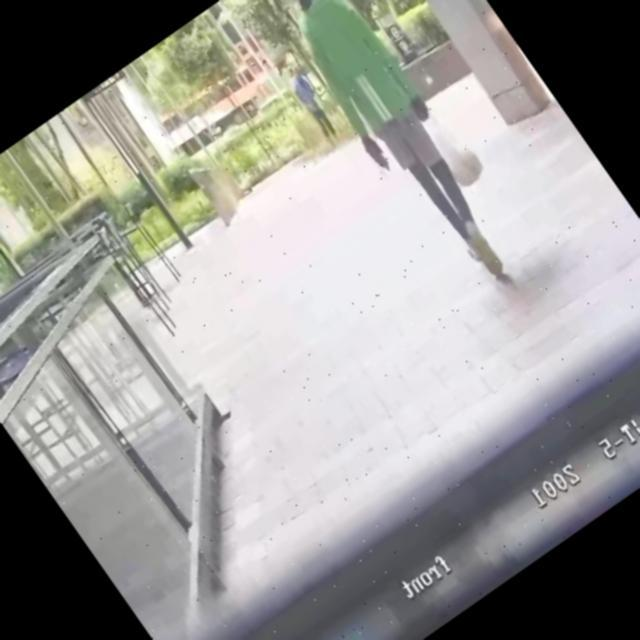person: (246, 0, 532, 298), (280, 62, 346, 144)
